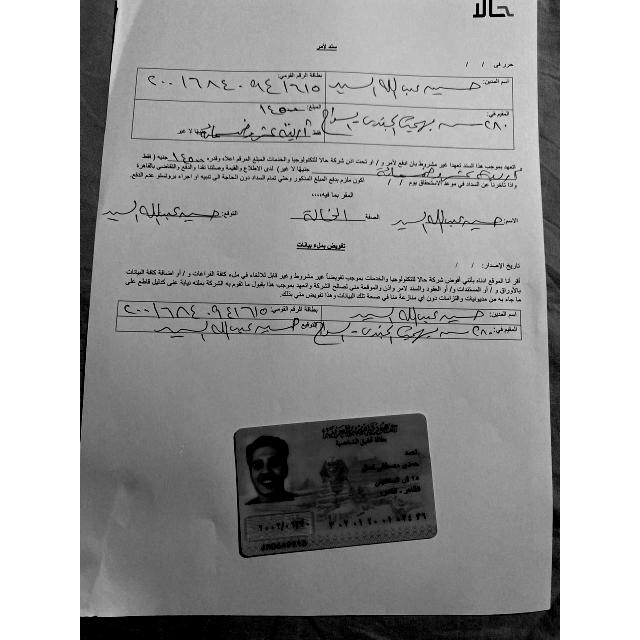id_card: (235, 414, 437, 556)
